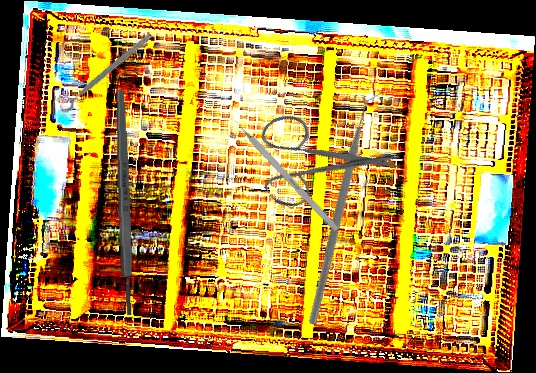Chopper: (247, 90, 448, 326)
Fixation Ring: (51, 24, 156, 117)
Hook Surgical: (227, 112, 340, 233)
Iris Scissors: (234, 72, 405, 241)
Scalpel Handle: (114, 89, 135, 316)
